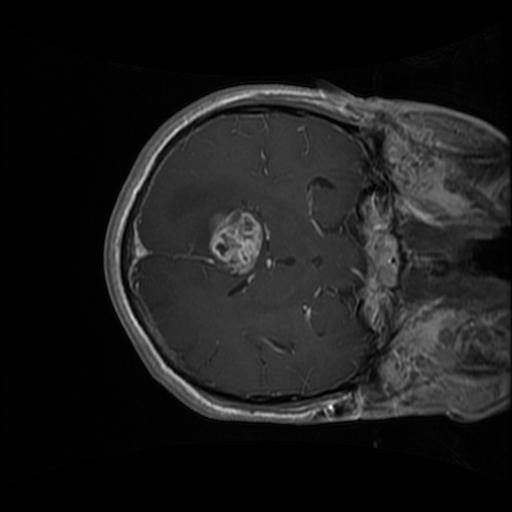glioma: (198, 203, 272, 278)
